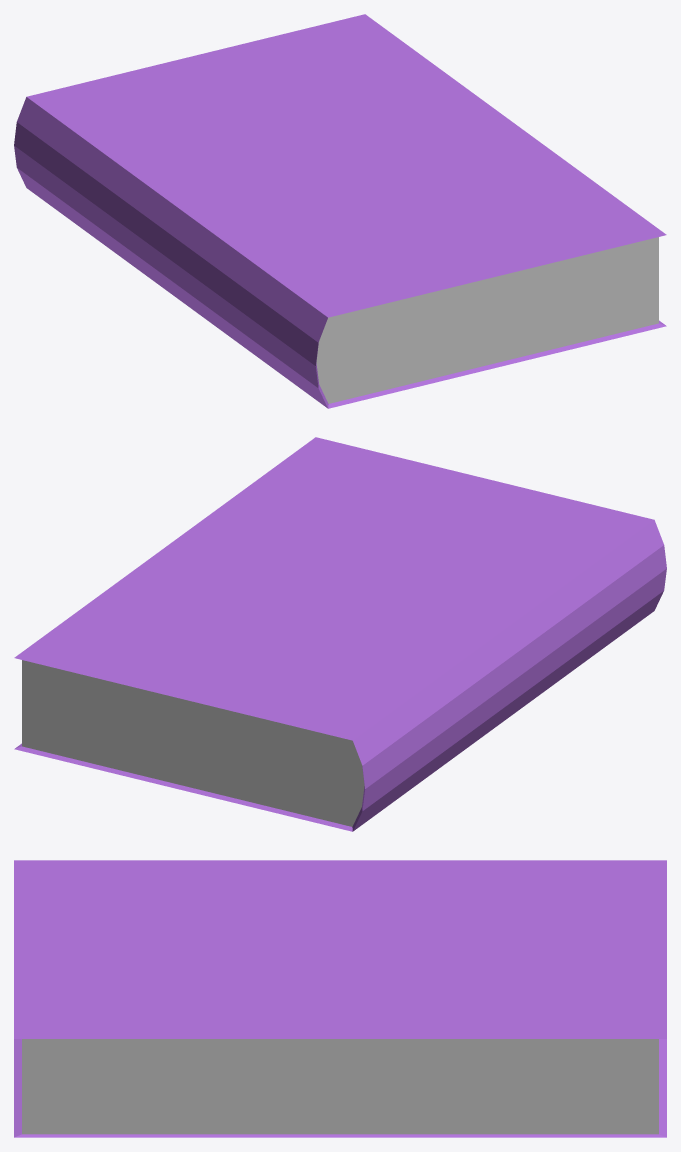
Rendered from buch.fbx.
3 views of the same model, one above another, from view 1: azimuth 30°, elevation 25°; view 2: azimuth 150°, elevation 25°; view 3: azimuth 270°, elevation 25° (orthographic). The views are drawn at different scales.
Parts seen in each view (by area): view 1: Cube; view 2: Cube; view 3: Cube.
Boxes of the visible parts, x1,y1,x2,y2 form: Cube: (14,14,666,408); Cube: (14,437,666,831); Cube: (14,860,666,1137).
Size of the model in its own units: 20.16 by 5 by 30.
